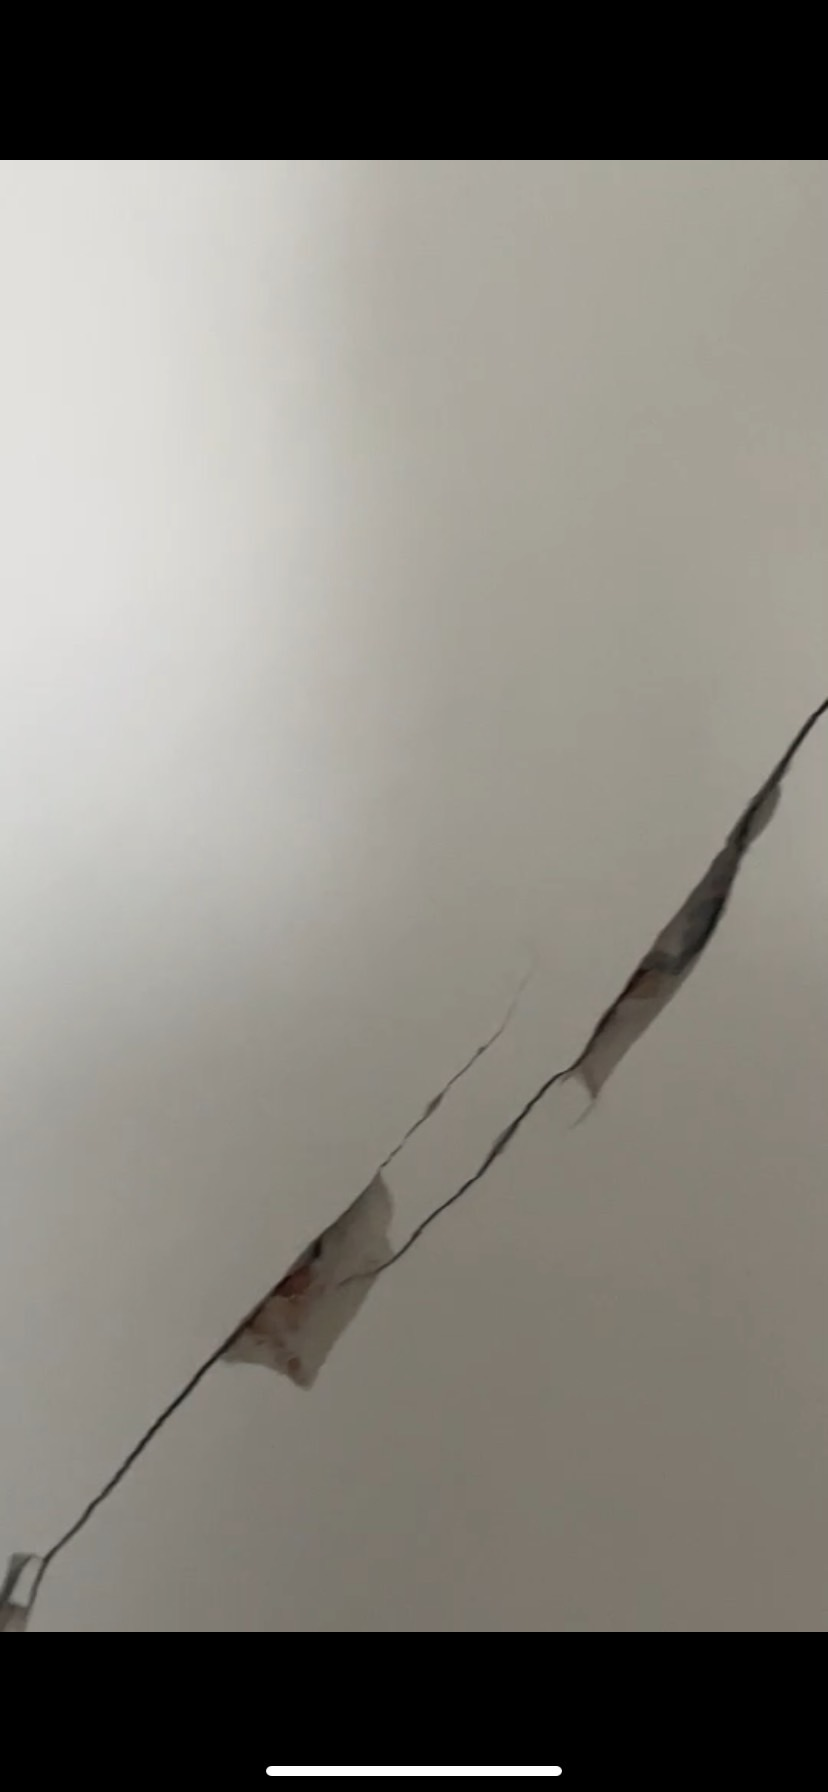Medium: (49, 811, 799, 1503)
